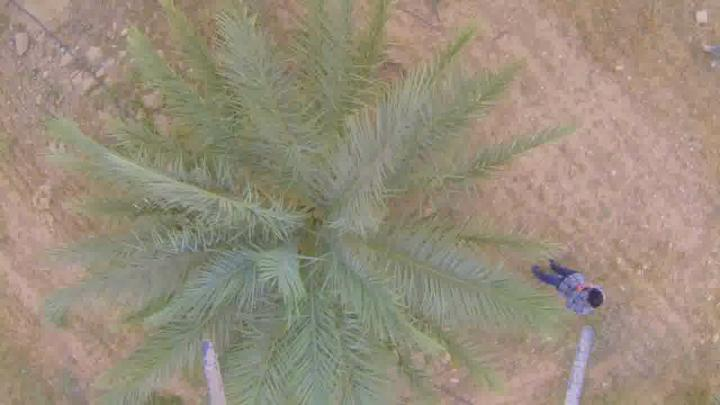Date-Palm-Crown: (145, 61, 467, 377)
